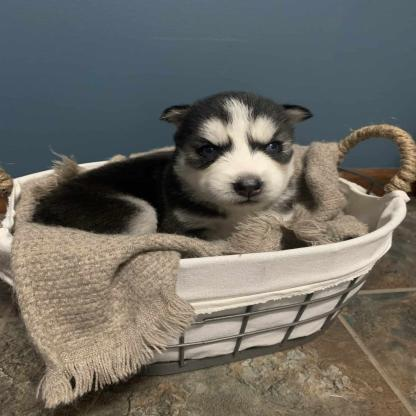dog: (31, 90, 311, 236)
